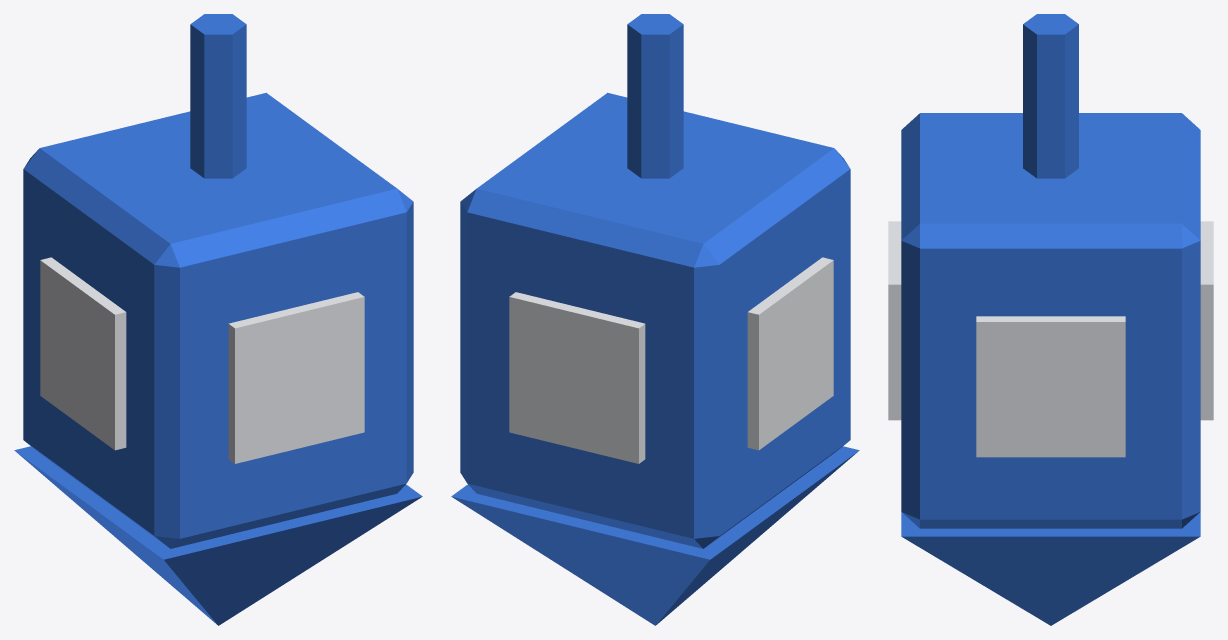
Rendered from Dreidel.fbx.
3 renders of one model, left to right at view 1: azimuth 30°, elevation 25°; view 2: azimuth 150°, elevation 25°; view 3: azimuth 270°, elevation 25°, orthographic.
Visible parts, largest first — view 1: Dreidel; view 2: Dreidel; view 3: Dreidel.
Boxes of the visible parts, x1,y1,x2,y2 form: Dreidel: (14,14,422,625); Dreidel: (451,14,859,625); Dreidel: (888,14,1213,625).
Bounding box in the file's own units: 1.74 × 3.55 × 1.74.
Materials: 1 (1 with a texture image).
